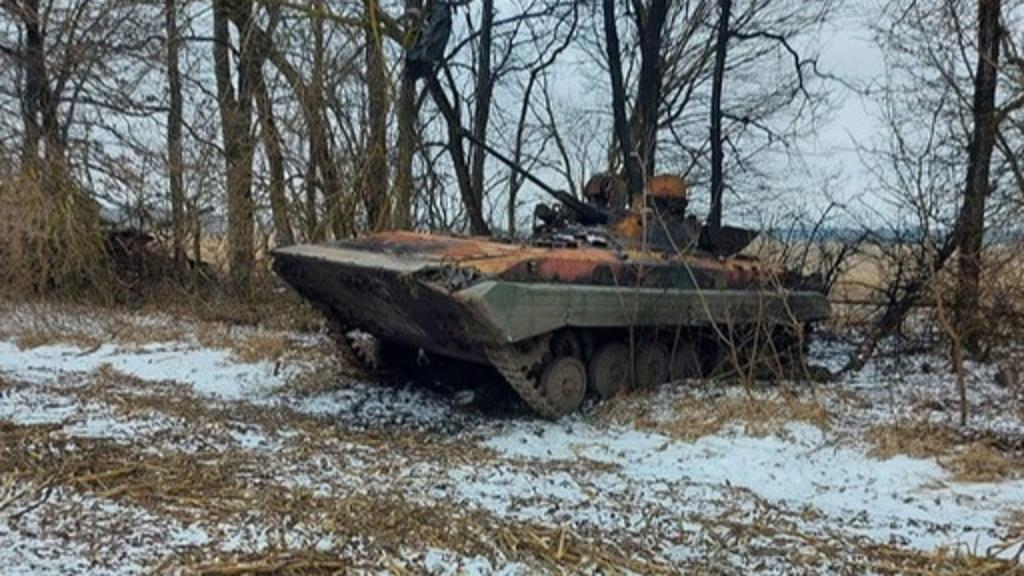APC-IFV: (260, 118, 836, 430)
